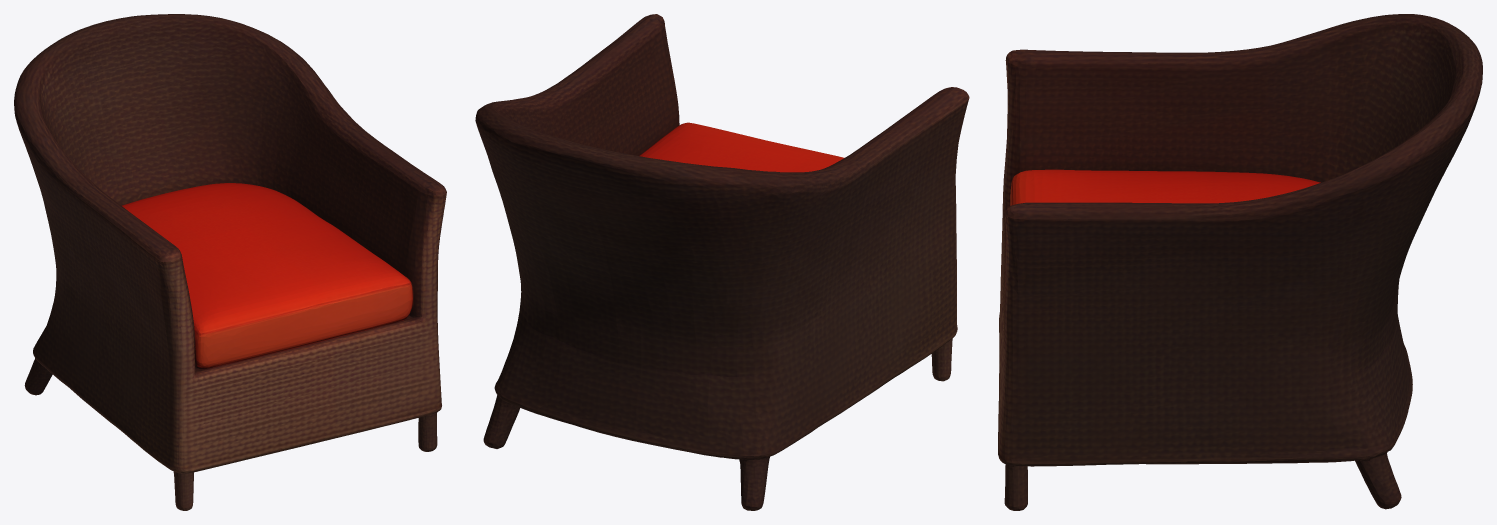
The model's file is chair-original.glb.
3 renders of one model, left to right at view 1: azimuth 30°, elevation 25°; view 2: azimuth 150°, elevation 25°; view 3: azimuth 270°, elevation 25°, orthographic. The views are drawn at different scales.
Parts seen in each view (by area): view 1: world; view 2: world; view 3: world.
Boxes of the visible parts, x1,y1,x2,y2 form: world: (14,14,446,510); world: (475,14,969,510); world: (998,14,1482,510).
Bounding box in the file's own units: 0.8123 × 0.8575 × 0.9983.
Materials: 1 (1 with a texture image).
